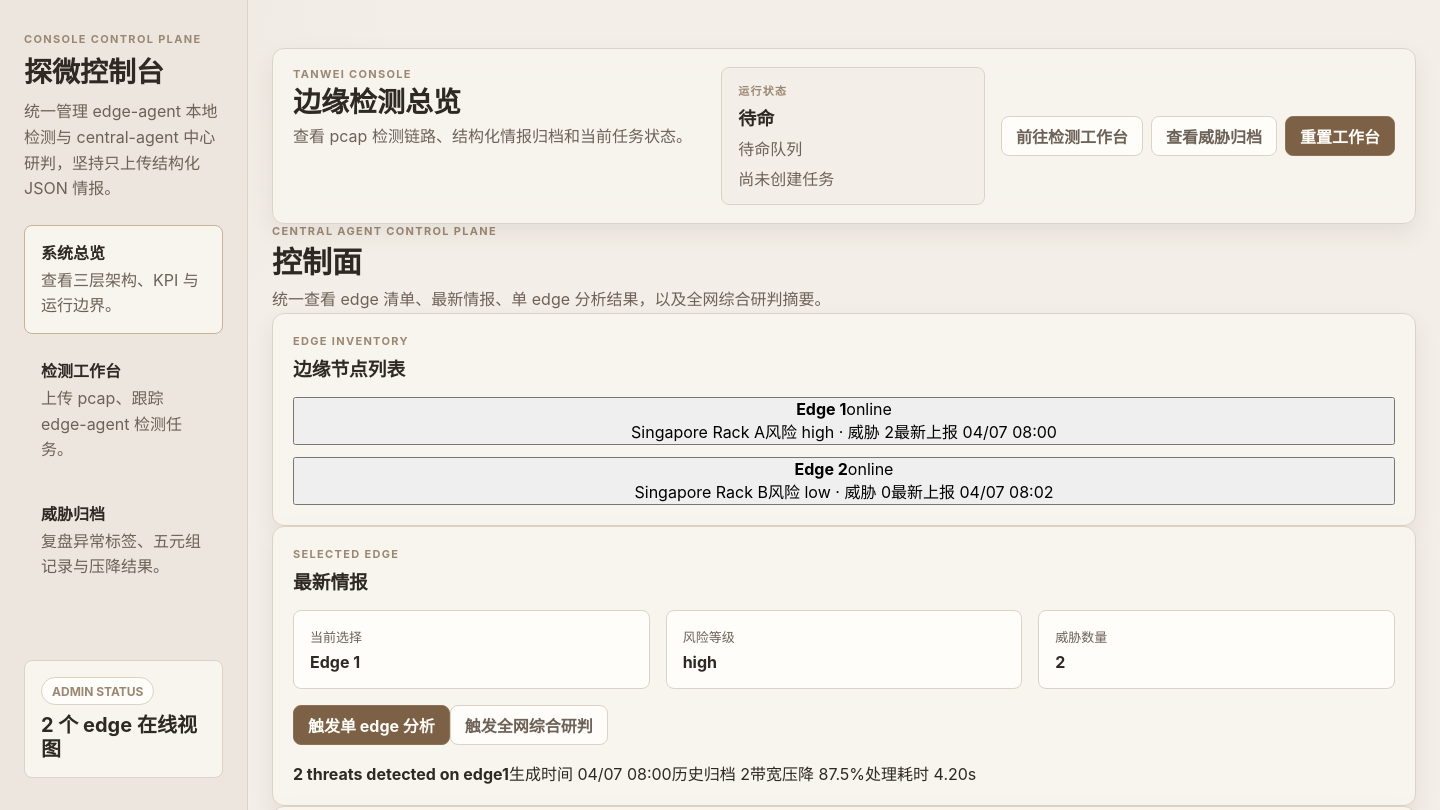
Test: App › loads the control plane, selects an edge, and supports manual analyses
The width and height of the screenshot is (1440, 810).
Expected: the 1st text "Edge 1" is shown, [796,399,846,419]
Expected: the text "2 threats detected on edge1" is shown, [293,764,509,784]
Click the button with aria-label "选择 Edge 2" at x=844, y=481, box [293,457,1395,505]
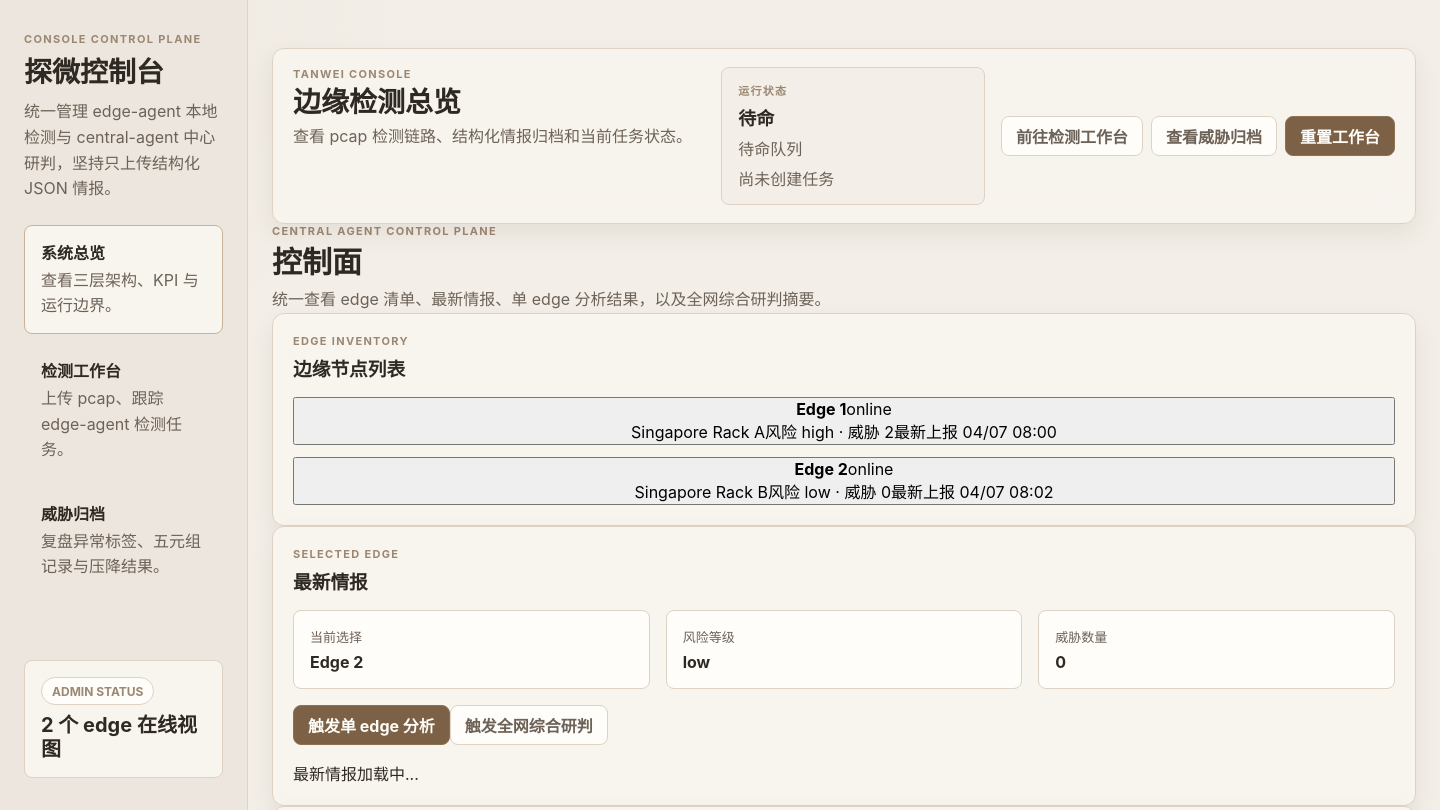
Click the button "触发单 edge 分析" at x=371, y=725, box [293,705,450,745]
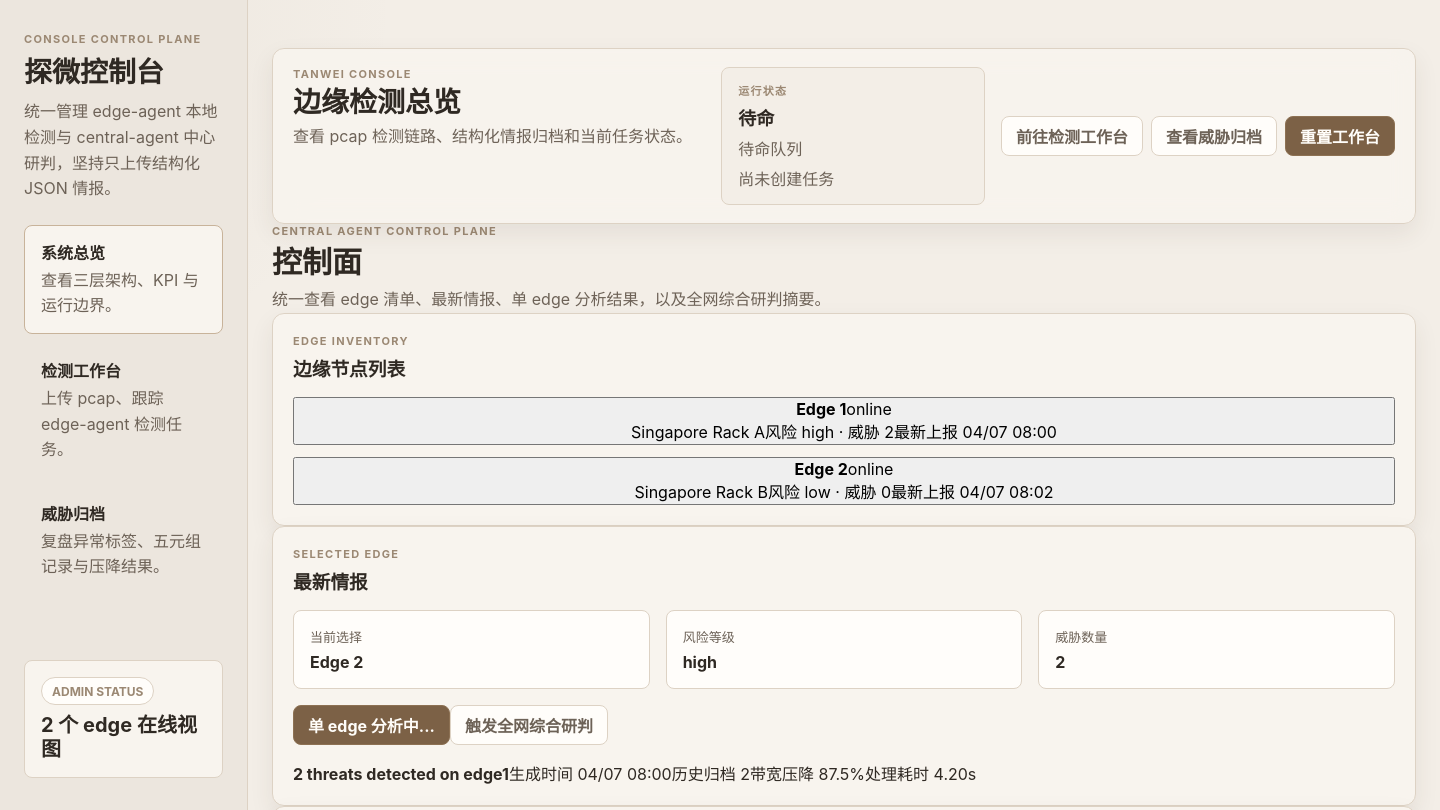
Click the button "触发全网综合研判" at x=529, y=725, box [450,705,608,745]
(page scrolled)
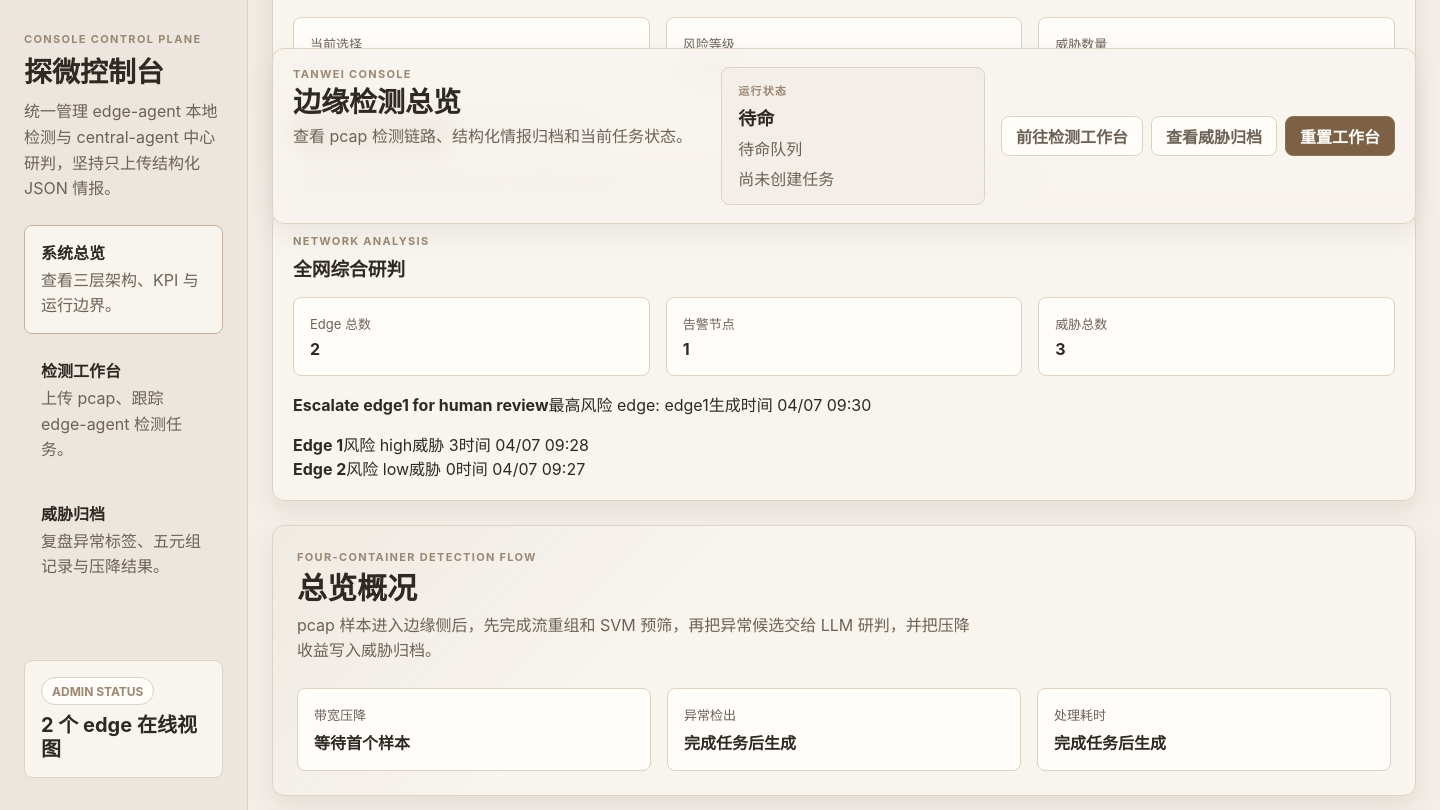
Now the text "Escalate edge1 for human review" is shown, box [293,395,548,415]
